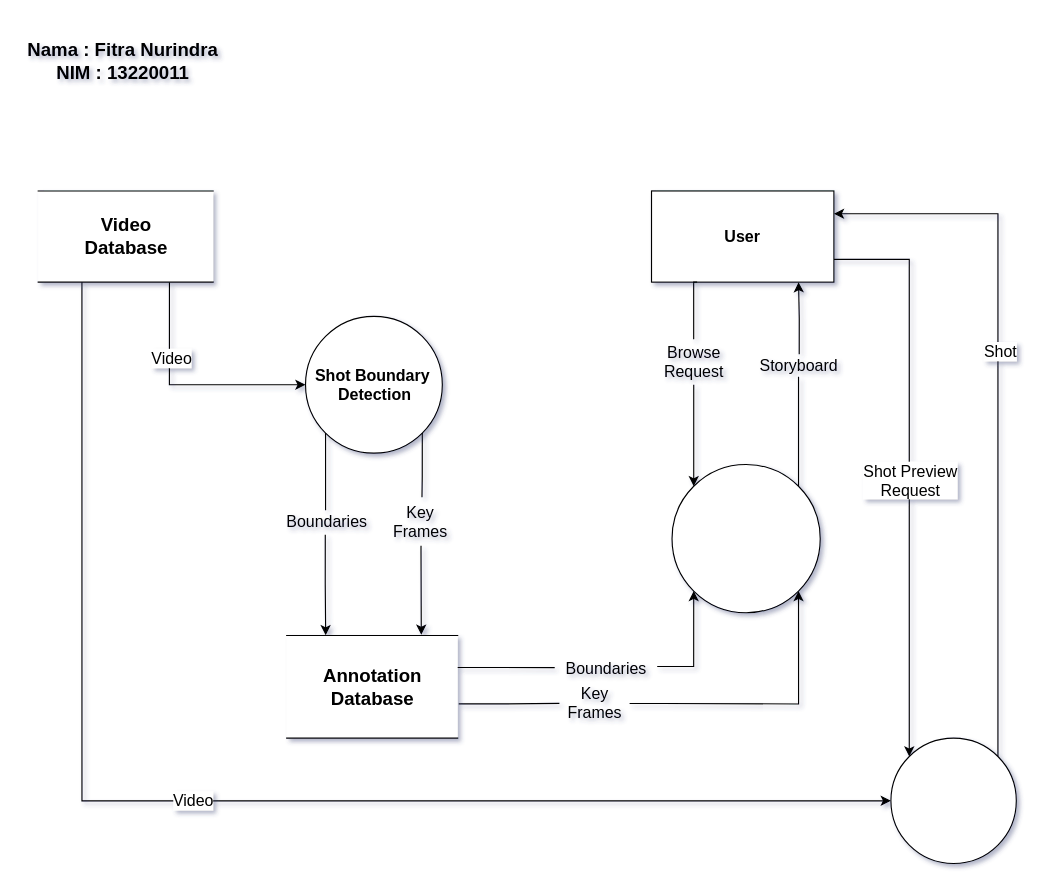
This 1043x890 diagram has some shape labels left out. The centre of each missing label's shape, as x and y in pixels:
"Shot Preview" belongs at [953,800].
"Storyboard Preview" belongs at [745,538].
